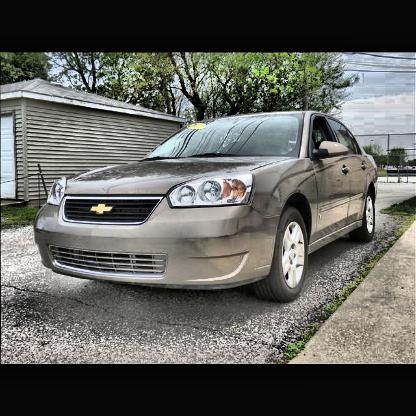Chevrolet Malibu Sedan 2007: (34, 111, 381, 304)
